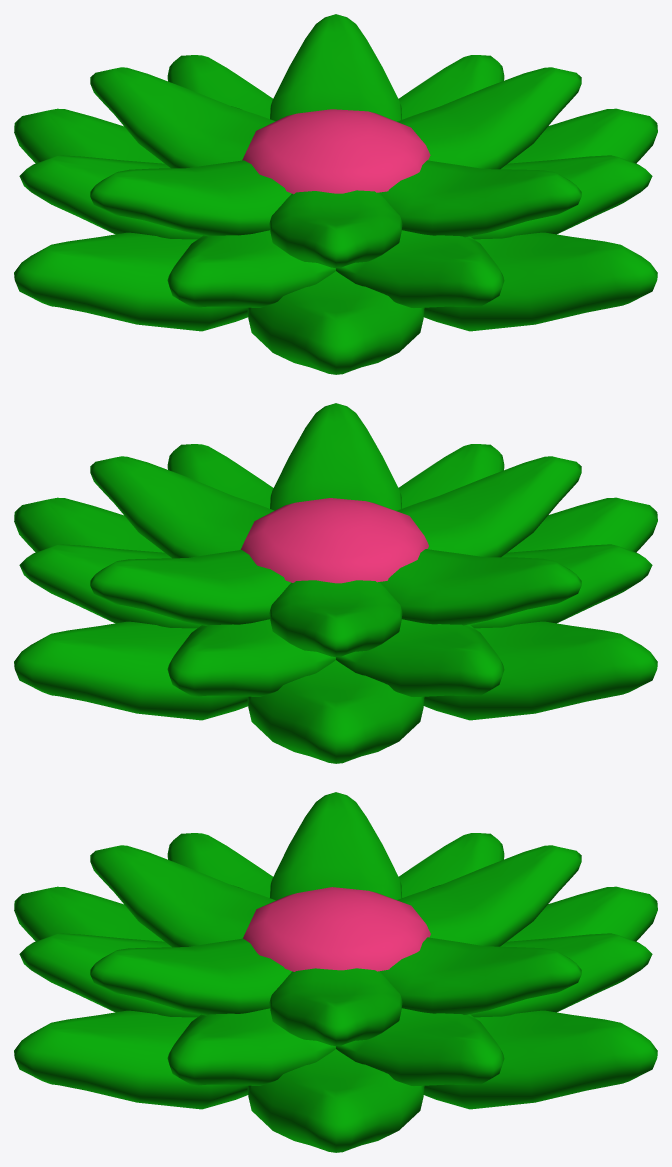
File: Lotus.fbx
3 renders of one model, top to bottom at view 1: azimuth 30°, elevation 25°; view 2: azimuth 150°, elevation 25°; view 3: azimuth 270°, elevation 25°, orthographic.
Visible parts, largest first — view 1: Lotus; view 2: Lotus; view 3: Lotus.
Part boxes in pixels (box(x1,y1,x2,y2)): Lotus: box(14, 14, 657, 374); Lotus: box(14, 403, 657, 763); Lotus: box(14, 792, 657, 1152).
Bounding box in the file's own units: 60.78 × 13.37 × 52.74.
